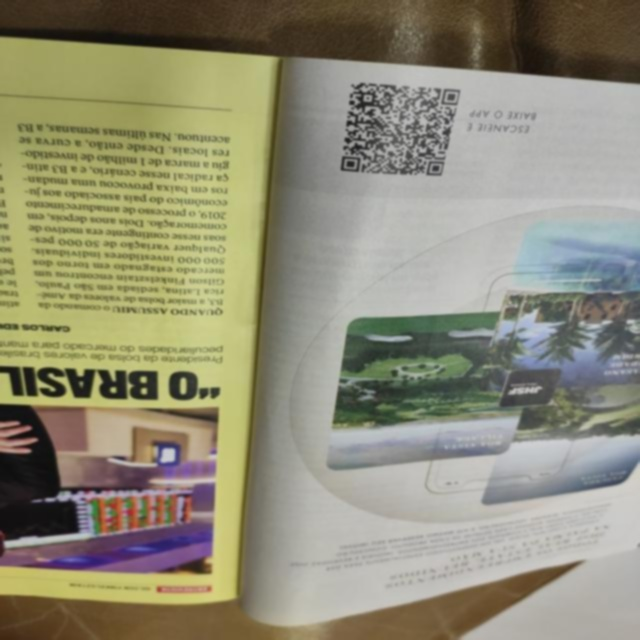qr-code: (340, 83, 460, 176)
